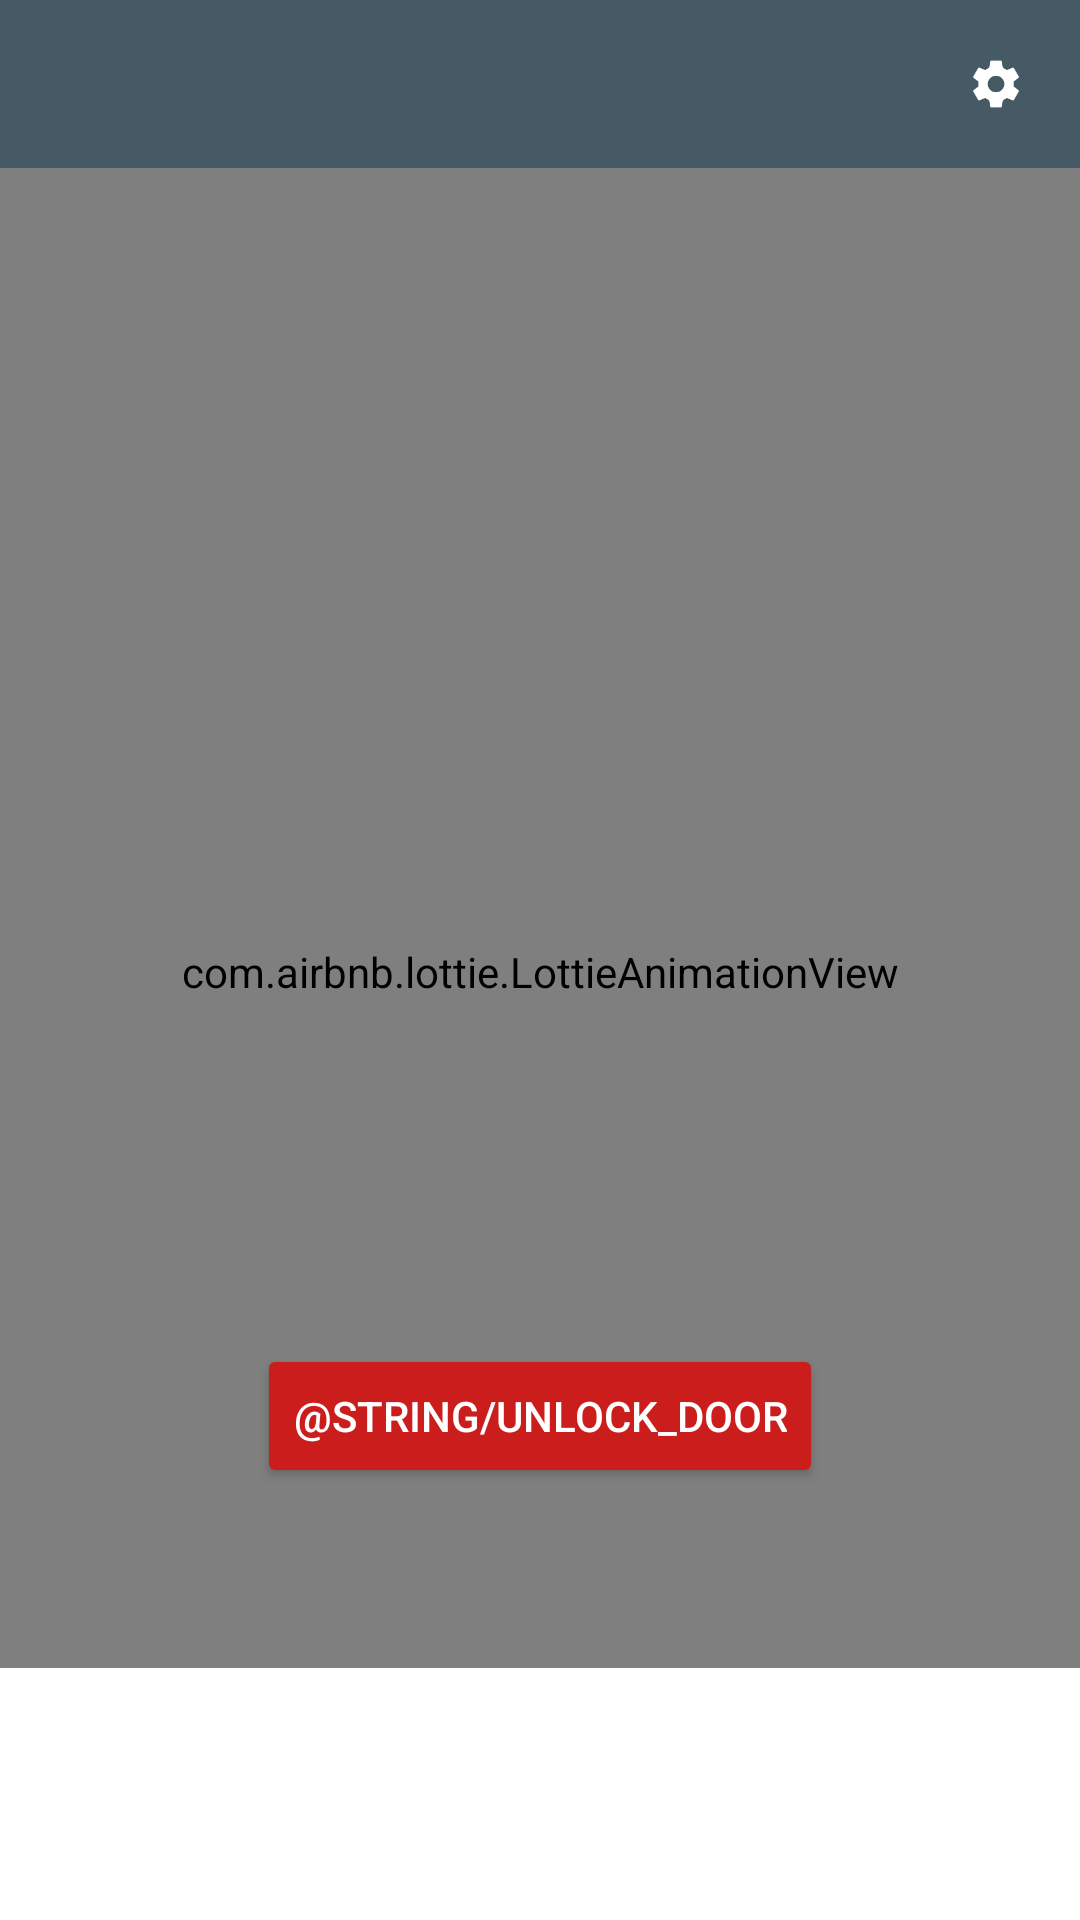

Icon click points for this 1080*1920 phone screenshot, format [x,y]:
settings: [996,84]
